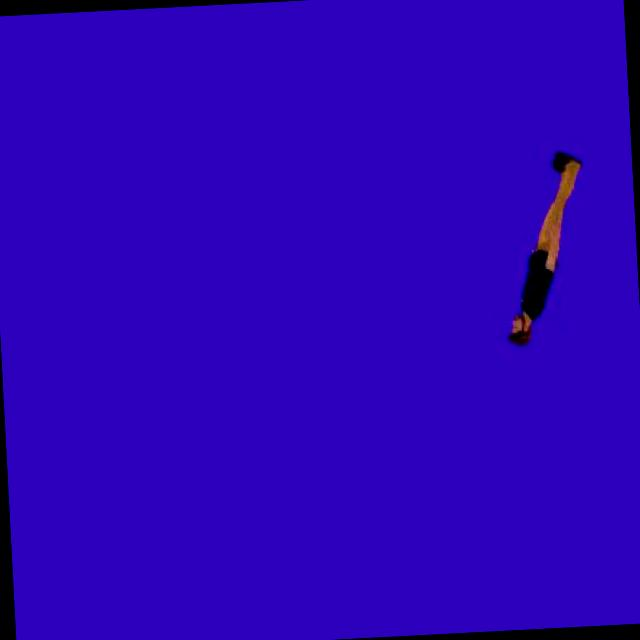Person: (496, 144, 598, 354)
